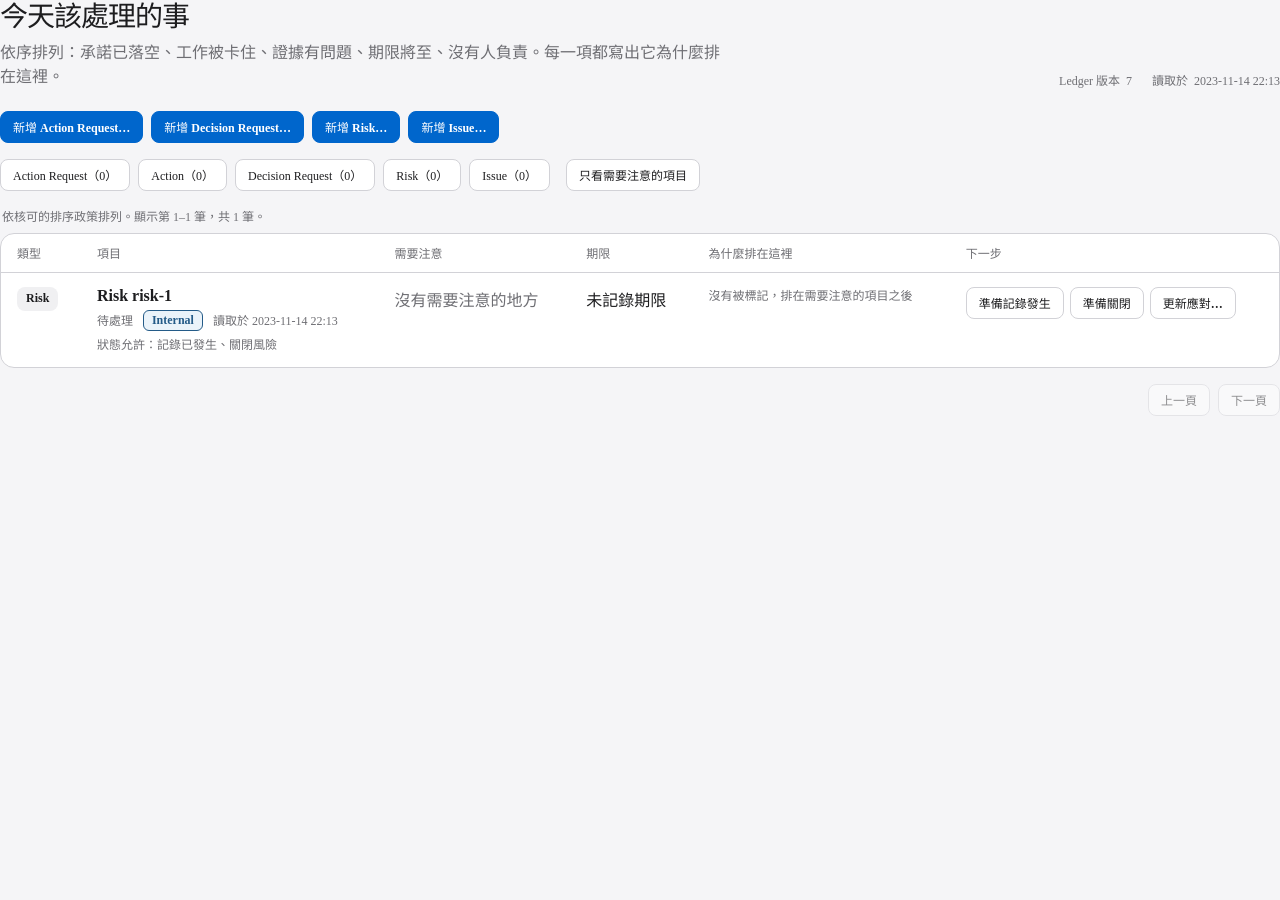
WorkQueue record entry (slice 6E) › refuses to accept a Risk before its owner, rationale, exposure and review are all named
Click the button "更新應對…".
click(1193, 303)  # box [1150, 287, 1236, 319]
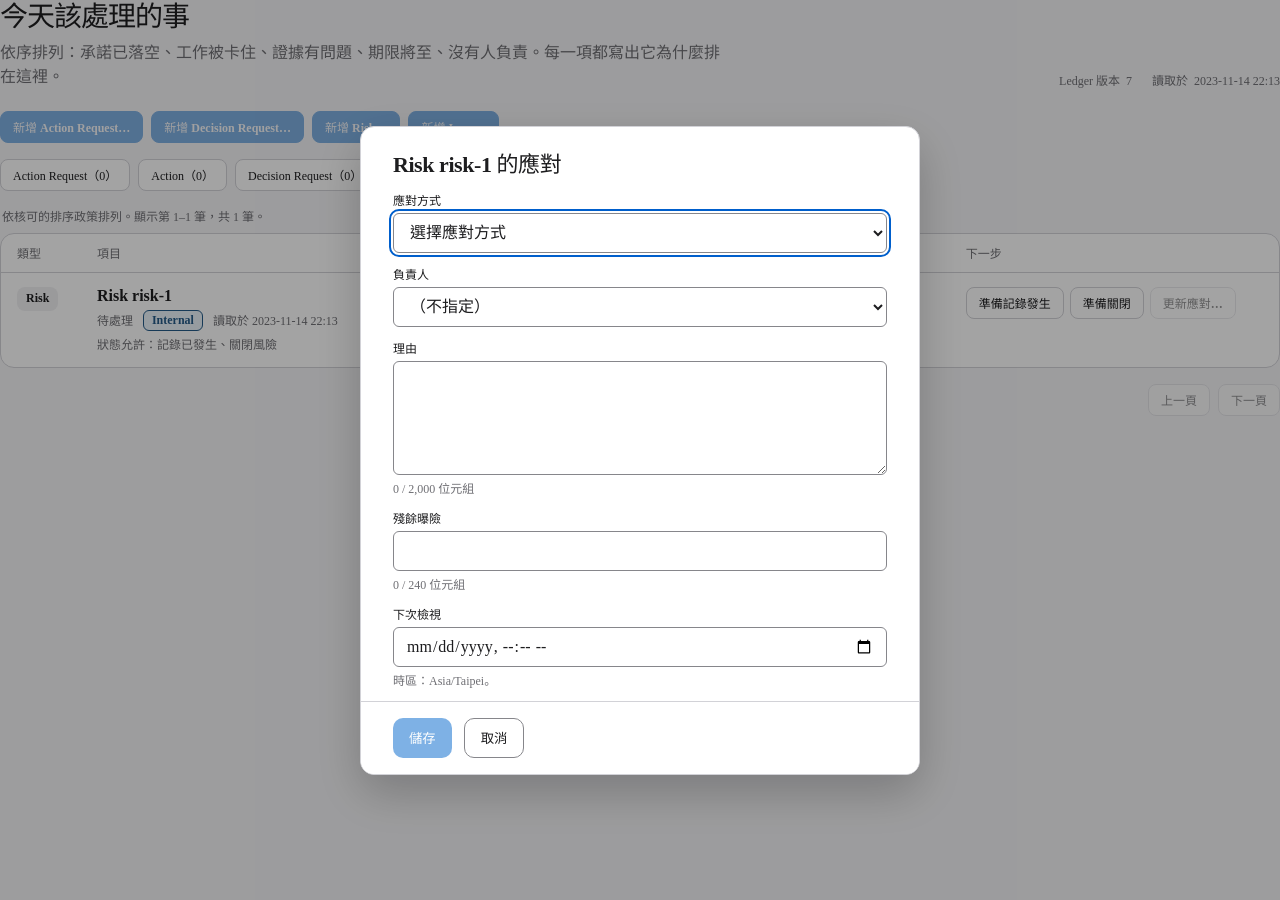
Select "接受" in the dropdown labelled "應對方式" at [640, 232], box [393, 212, 887, 252]
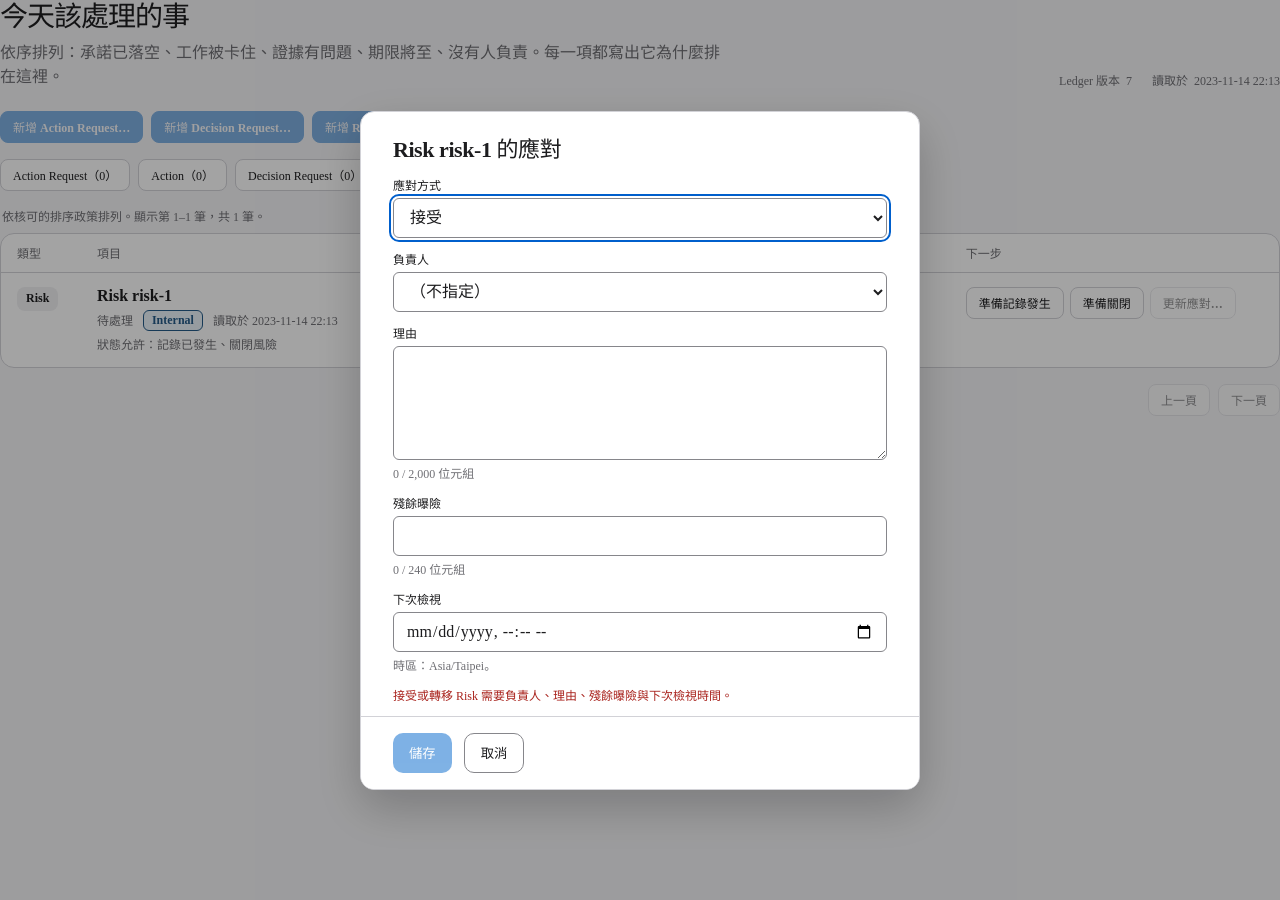
Now the button "儲存" is disabled, box [393, 732, 452, 772]
Now the text "接受或轉移 Risk 需要負責人、理由、殘餘曝險與下次檢視時間。" is shown, box [393, 688, 733, 702]
Select "王小明" in the dropdown labelled "負責人" at [640, 292], box [393, 272, 887, 312]
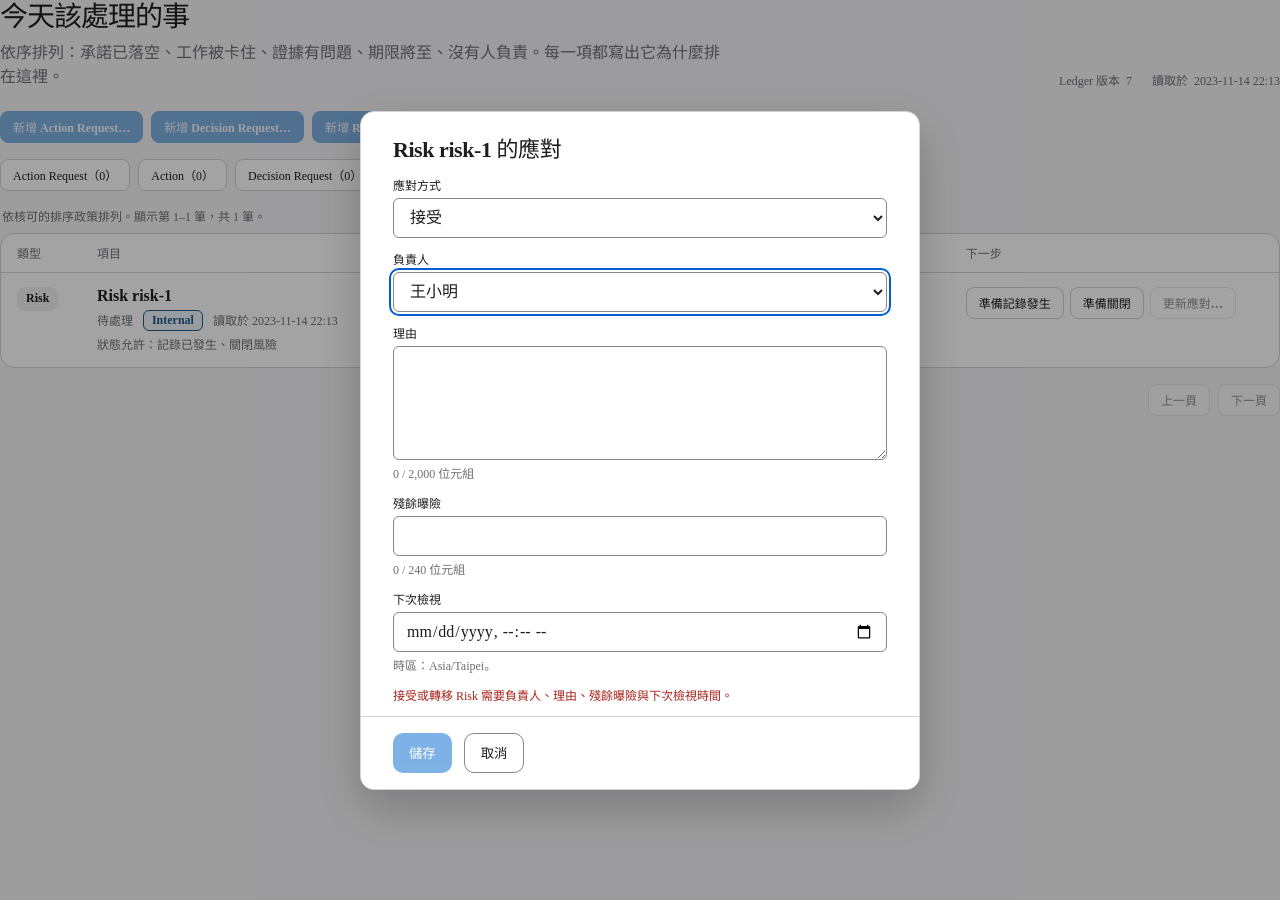
Type "成本可接受" into the text box labelled "理由".
click(640, 402); type("成本可接受")  # box [393, 346, 887, 460]
Type "低" into the field labelled "殘餘曝險".
click(640, 536); type("低")  # box [393, 516, 887, 556]
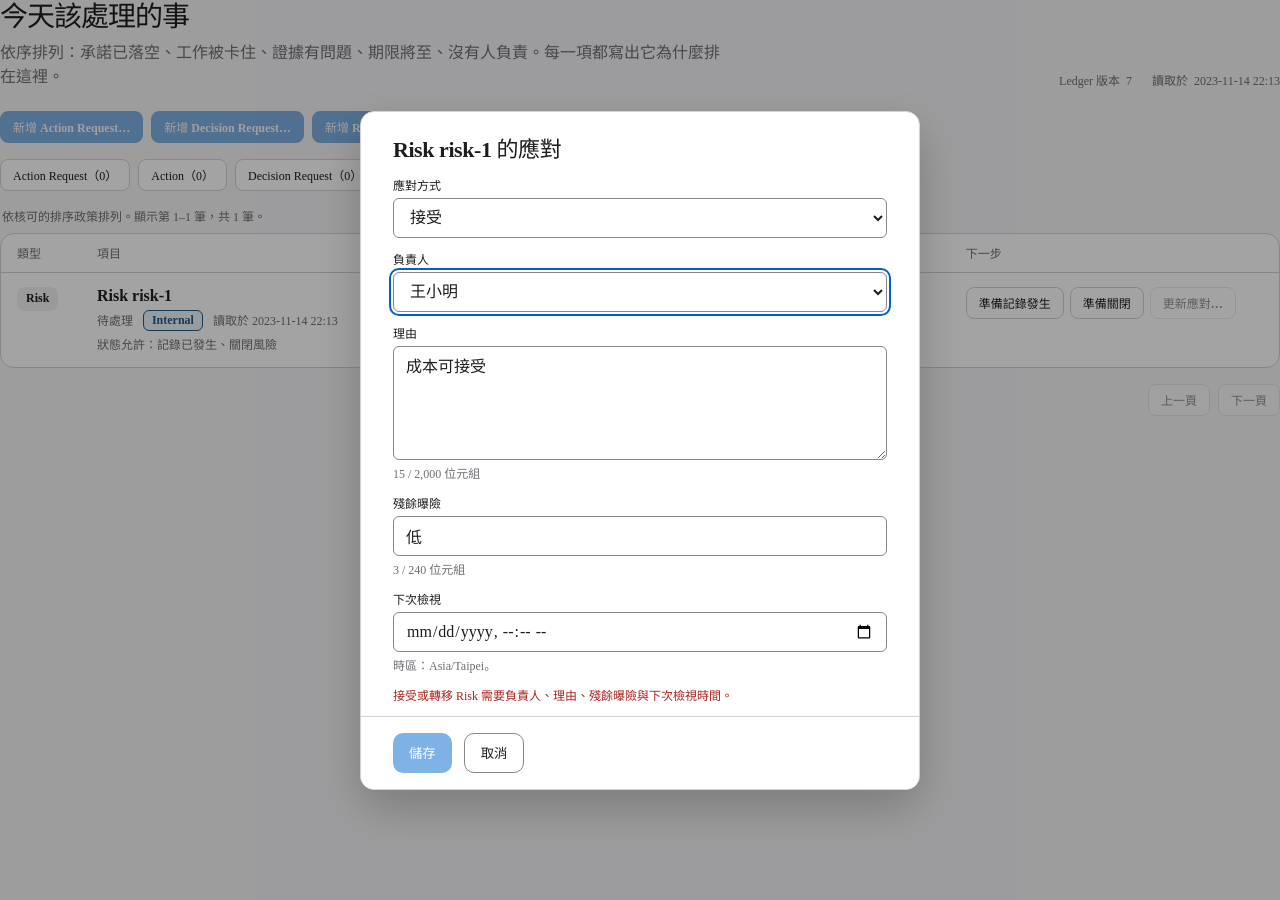
Type "2026-12-01T10:00" into the field labelled "下次檢視".
click(640, 632); type("2026-12-01T10:00")  # box [393, 612, 887, 652]
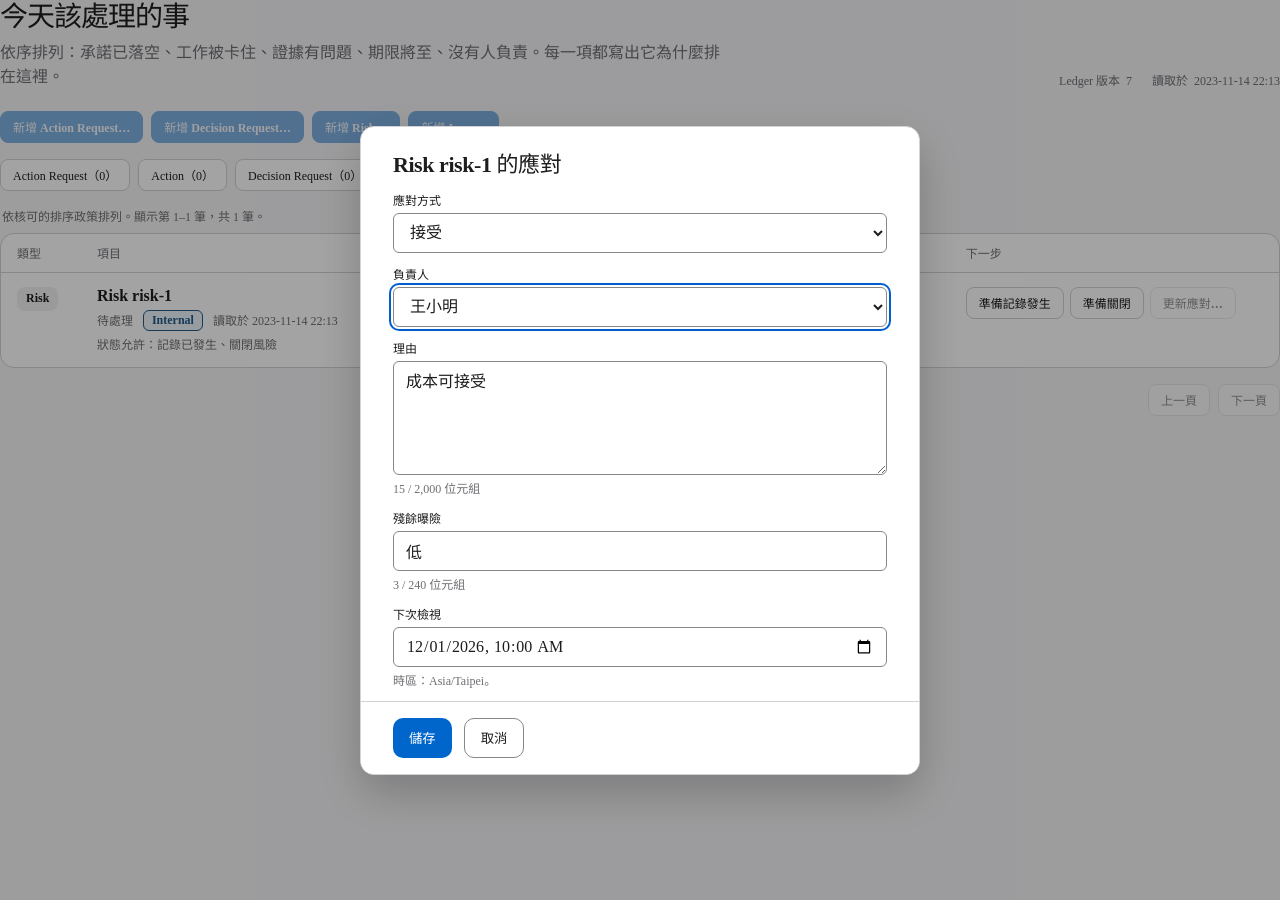
Click the button "儲存".
click(422, 738)  # box [393, 718, 452, 758]
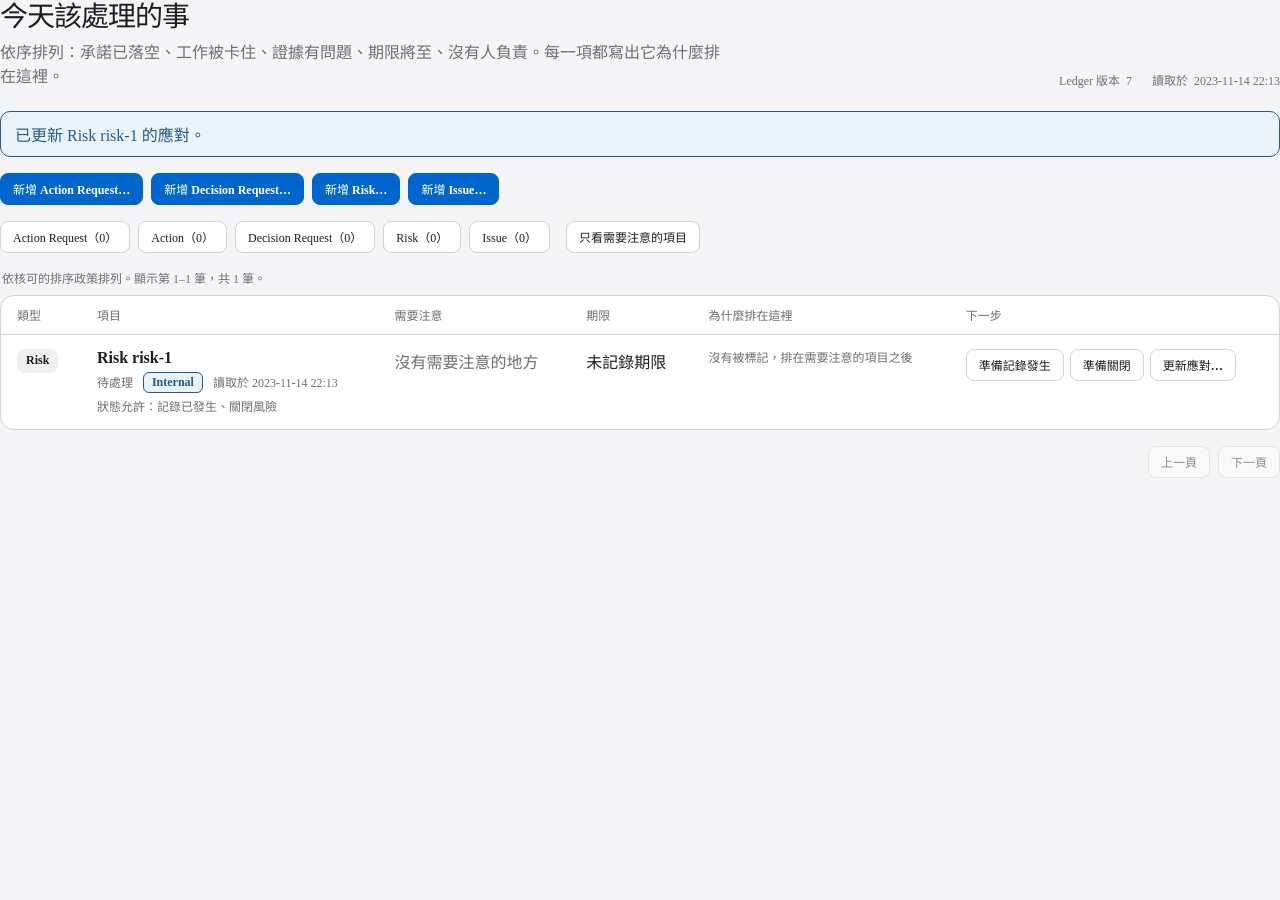
Now the message reads "已更新 Risk risk-1 的應對。", box [15, 127, 206, 144]
